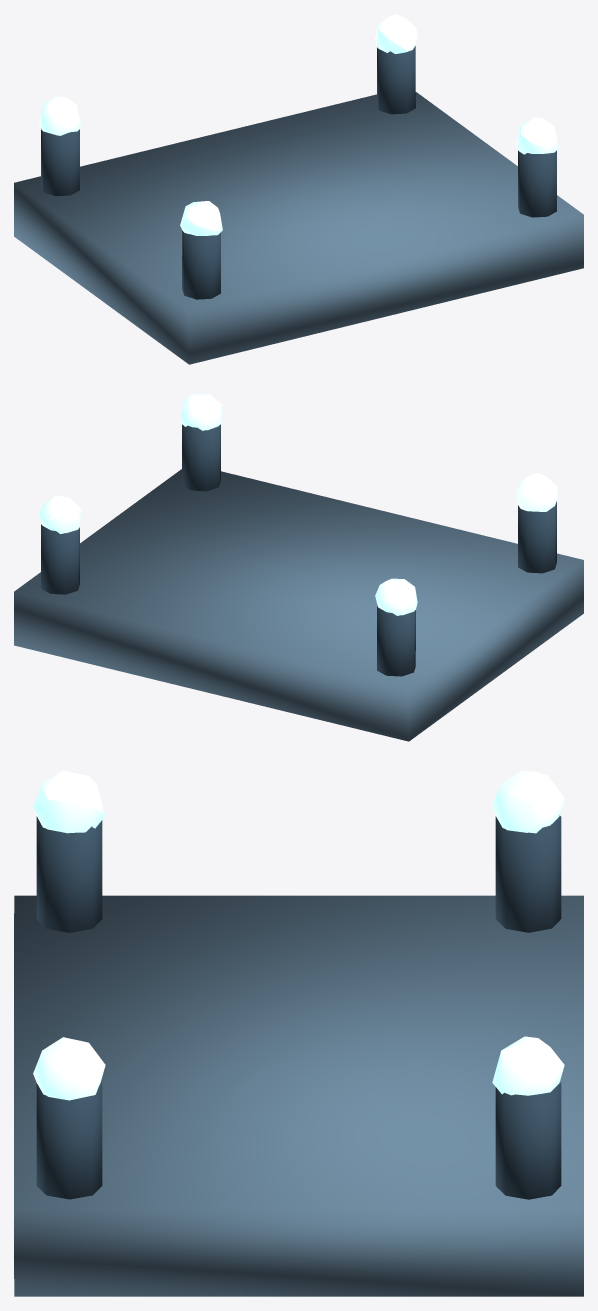
File: SM_Rheinufer_Ponton_LOD3.fbx
The picture shows the model from 3 angles, top to bottom: view 1: azimuth 30°, elevation 25°; view 2: azimuth 150°, elevation 25°; view 3: azimuth 270°, elevation 25°; orthographic projection. The views are drawn at different scales.
Parts seen in each view (by area): view 1: SM_Rheinufer_Ponton_LOD3; view 2: SM_Rheinufer_Ponton_LOD3; view 3: SM_Rheinufer_Ponton_LOD3.
Boxes of the visible parts, x1,y1,x2,y2 form: SM_Rheinufer_Ponton_LOD3: (14, 14, 583, 364); SM_Rheinufer_Ponton_LOD3: (14, 393, 583, 741); SM_Rheinufer_Ponton_LOD3: (14, 770, 583, 1296).
Size of the model in its own units: 2.59 by 0.8951 by 1.99.
